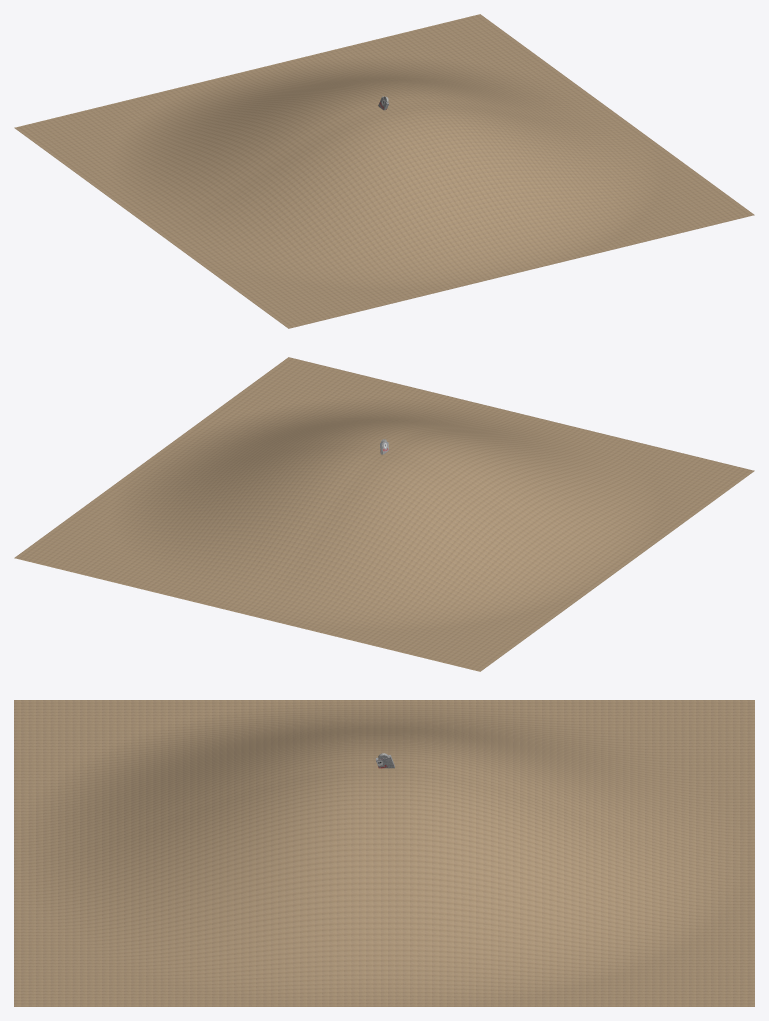
File: GameOver.gltf
3 renders of one model, top to bottom at view 1: azimuth 30°, elevation 25°; view 2: azimuth 150°, elevation 25°; view 3: azimuth 270°, elevation 25°, orthographic. The views are drawn at different scales.
Parts seen in each view (by area): view 1: map; view 2: map; view 3: map.
Part boxes in pixels (x1,y1,x2,y2): map: (14,14,754,328); map: (14,357,754,671); map: (14,700,754,1006).
Size of the model in its own units: 198 by 30.25 by 202.
2 materials, 2 textured.
